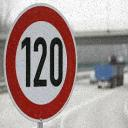speed_limit_120: (2, 1, 79, 125)
